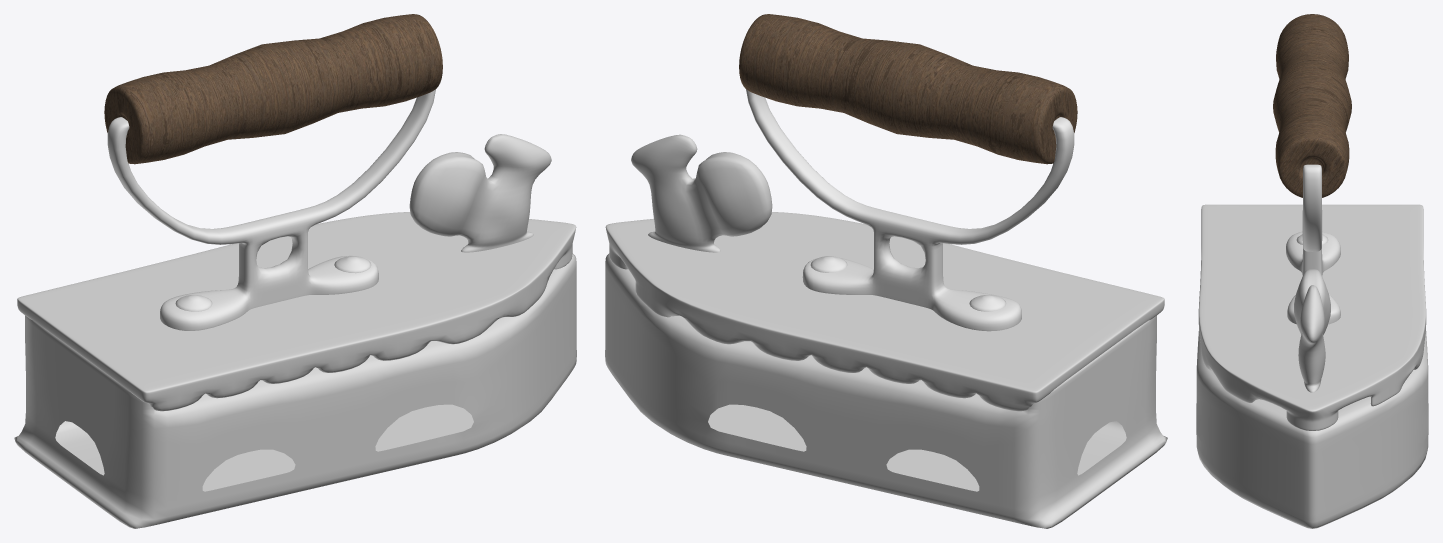
File: setrika.fbx
3 renders of one model, left to right at view 1: azimuth 30°, elevation 25°; view 2: azimuth 150°, elevation 25°; view 3: azimuth 270°, elevation 25°, orthographic. The views are drawn at different scales.
Visible parts, largest first — view 1: Cube, Cube.001, Cylinder, Cube.002, Circle.001, Circle.002; view 2: Cube, Cube.001, Cylinder, Cube.002, Circle.001, Circle.002; view 3: Cube.001, Cube, Cylinder, Cube.002, Circle.001.
Part boxes in pixels (x1,y1,x2,y2): Cube: (14,253,576,528); Cube.001: (17,212,576,411); Cylinder: (104,14,442,164); Cube.002: (107,89,435,330); Circle.001: (409,134,551,252); Circle.002: (175,256,371,311); Cube: (605,253,1167,528); Cube.001: (605,212,1164,411); Cylinder: (739,14,1077,164); Cube.002: (746,89,1074,331); Circle.001: (631,134,772,252); Circle.002: (810,256,1006,311); Cube.001: (1198,204,1426,430); Cube: (1196,331,1428,528); Cylinder: (1273,14,1351,197); Cube.002: (1286,164,1340,324); Circle.001: (1294,269,1330,392).
Size of the model in its own units: 456 by 339 by 213.
